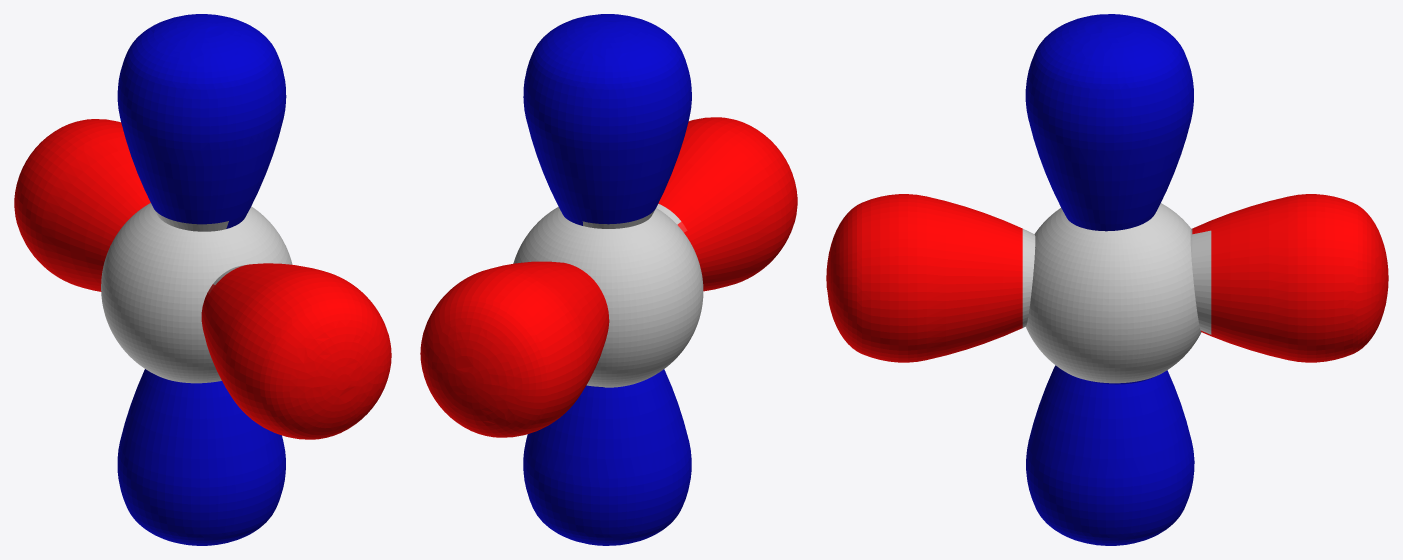
File: Carbono_no_h.glb
The picture shows the model from 3 angles, left to right: view 1: azimuth 30°, elevation 25°; view 2: azimuth 150°, elevation 25°; view 3: azimuth 270°, elevation 25°; orthographic projection.
Parts seen in each view (by area): view 1: root; view 2: root; view 3: root.
Part boxes in pixels (x1=…): root: x1=14, y1=14, x2=391, y2=545; root: x1=420, y1=14, x2=797, y2=545; root: x1=826, y1=14, x2=1388, y2=545.
Bounding box in the file's own units: 0.0345 × 0.1 × 0.1.
